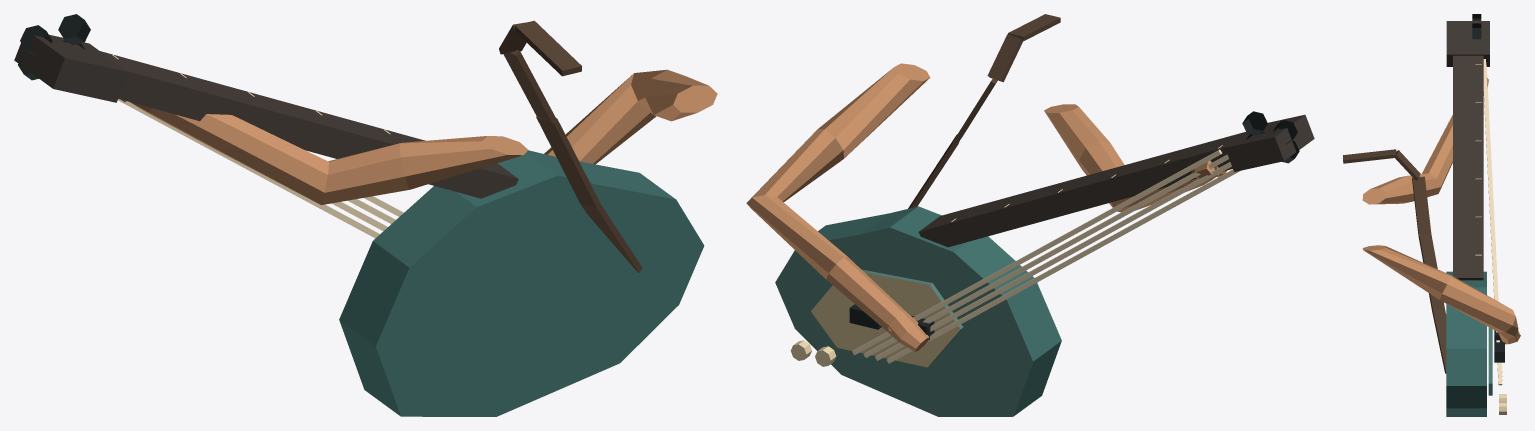
The model's file is lwf_bassist_female_kit_v1.glb.
3 views of the same model, side by side, from view 1: azimuth 30°, elevation 25°; view 2: azimuth 150°, elevation 25°; view 3: azimuth 270°, elevation 25° (orthographic). The views are drawn at different scales.
Visible parts, largest first — view 1: LWF_Bassist_SolidBass, LWF_Bassist_LeftPlayingArm, LWF_Bassist_RightPlayingArm, LWF_Fitted_LeatherStrap; view 2: LWF_Bassist_SolidBass, LWF_Bassist_RightPlayingArm, LWF_Bassist_LeftPlayingArm, LWF_Fitted_LeatherStrap; view 3: LWF_Bassist_SolidBass, LWF_Bassist_RightPlayingArm, LWF_Fitted_LeatherStrap, LWF_Bassist_LeftPlayingArm.
Part boxes in pixels (box(x1,y1,x2,y2)): LWF_Bassist_SolidBass: box(14, 14, 704, 416); LWF_Bassist_LeftPlayingArm: box(121, 99, 527, 204); LWF_Bassist_RightPlayingArm: box(544, 69, 717, 164); LWF_Fitted_LeatherStrap: box(499, 20, 642, 272); LWF_Bassist_SolidBass: box(775, 111, 1314, 416); LWF_Bassist_RightPlayingArm: box(746, 63, 930, 351); LWF_Bassist_LeftPlayingArm: box(1044, 104, 1226, 212); LWF_Fitted_LeatherStrap: box(908, 14, 1060, 208); LWF_Bassist_SolidBass: box(1446, 14, 1506, 416); LWF_Bassist_RightPlayingArm: box(1362, 245, 1520, 344); LWF_Fitted_LeatherStrap: box(1343, 149, 1446, 373); LWF_Bassist_LeftPlayingArm: box(1362, 77, 1488, 204).
Size of the model in its own units: 1.19 by 0.8071 by 0.4926.
Materials: 3 (3 with a texture image).
